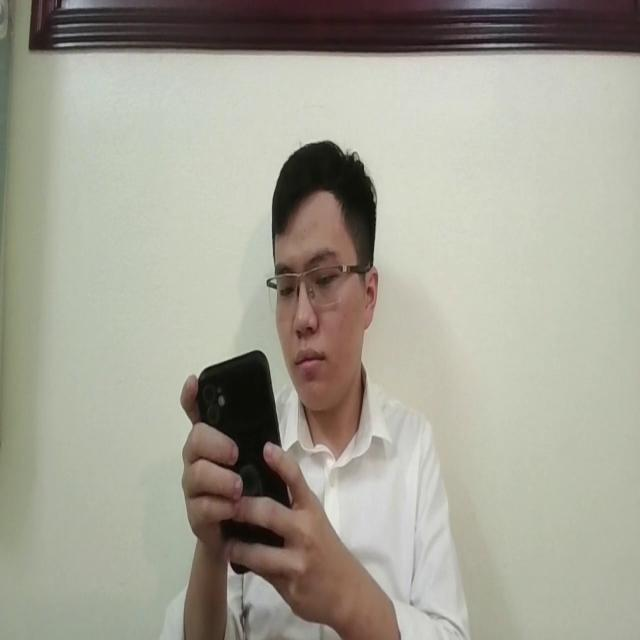phone: (194, 344, 297, 576)
student: (164, 135, 470, 640)
